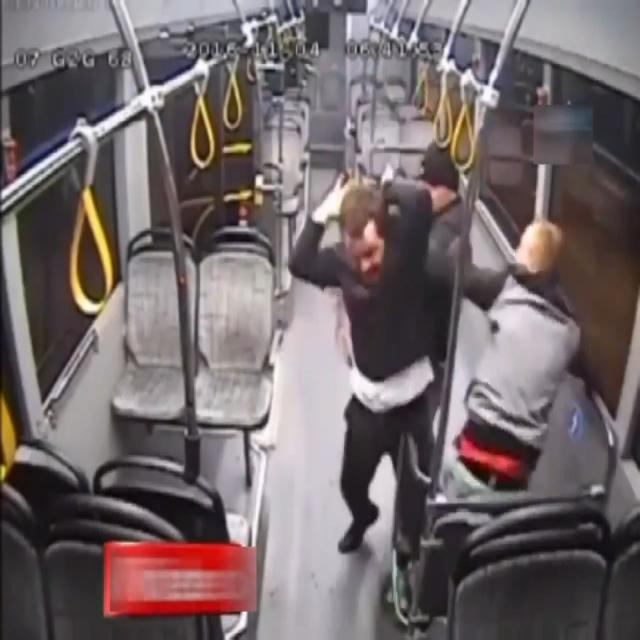fight: (274, 99, 568, 510)
